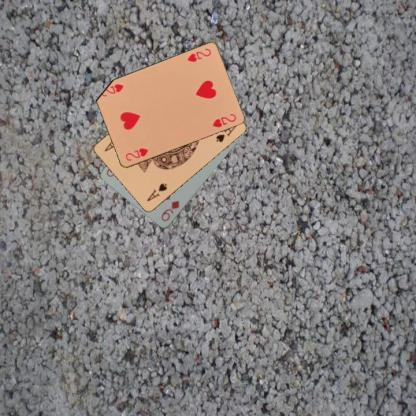2h: (184, 46, 212, 64), (123, 146, 149, 162)
9d: (158, 198, 180, 223)
As: (144, 181, 168, 203)
